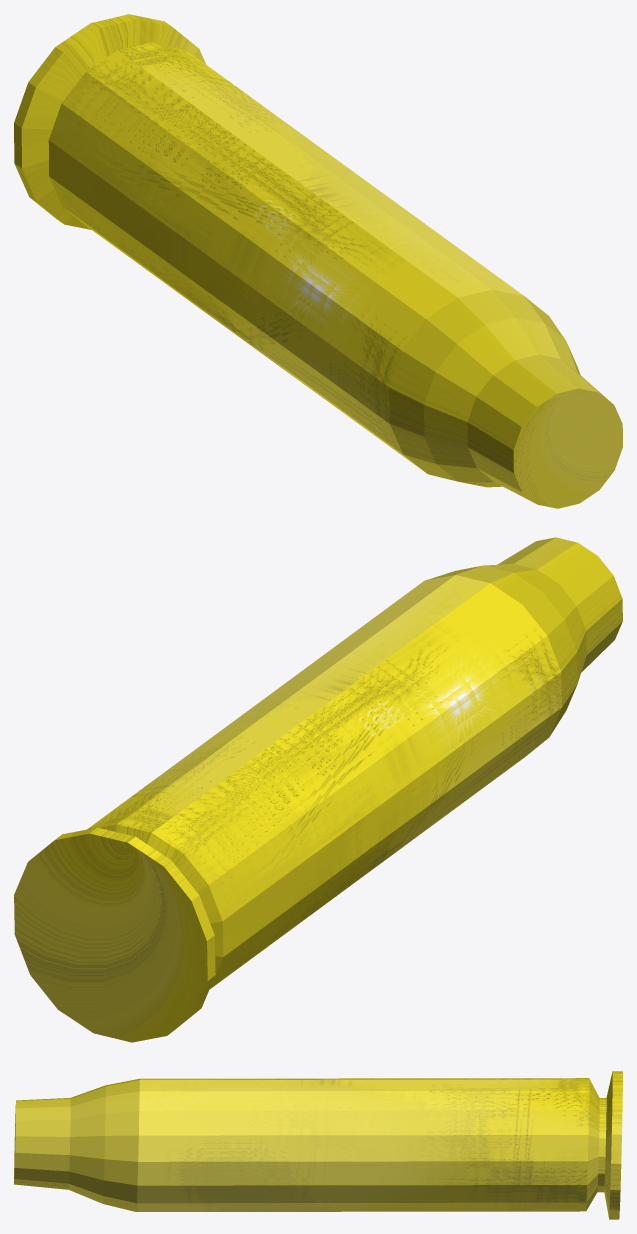
Rendered from bullet-shell.fbx.
3 views of the same model, one above another, from view 1: azimuth 30°, elevation 25°; view 2: azimuth 150°, elevation 25°; view 3: azimuth 270°, elevation 25° (orthographic). The views are drawn at different scales.
Visible parts, largest first — view 1: Shell; view 2: Shell; view 3: Shell.
Boxes of the visible parts, <box> form: Shell: <box>14,14,622,508</box>; Shell: <box>14,537,622,1042</box>; Shell: <box>14,1071,622,1219</box>.
Bounding box in the file's own units: 1.65 × 1.64 × 6.79.
